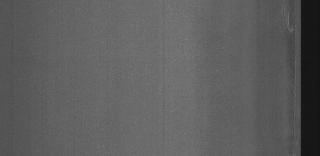silk spot: (277, 6, 299, 36)
